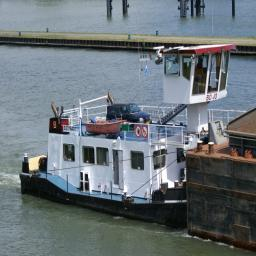tugboat: (17, 40, 252, 233)
